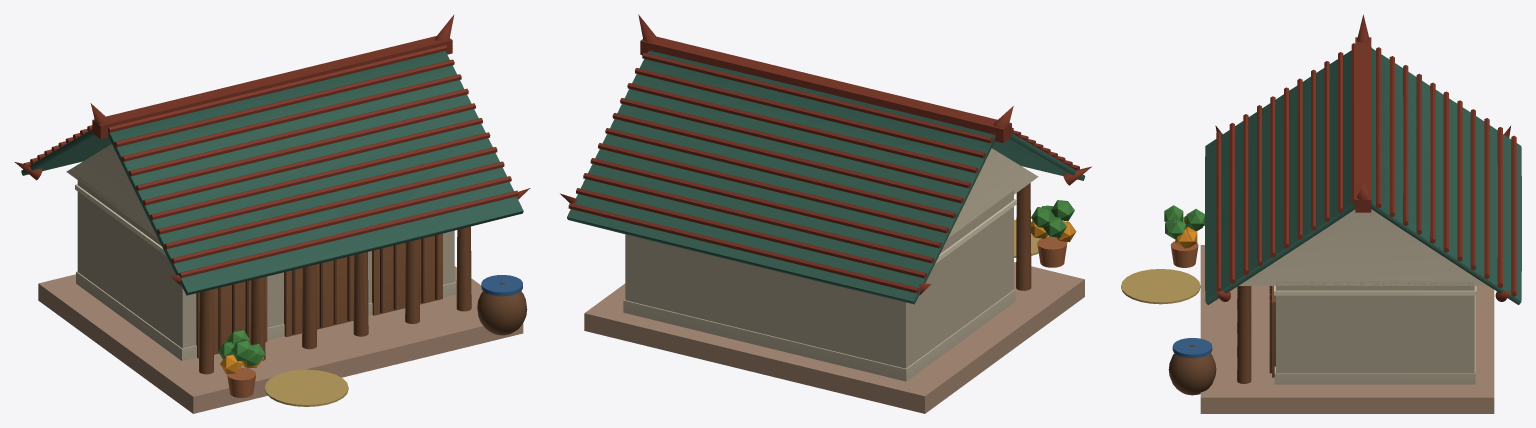
3 views of the same model, side by side, from view 1: azimuth 30°, elevation 25°; view 2: azimuth 150°, elevation 25°; view 3: azimuth 270°, elevation 25° (orthographic). The views are drawn at different scales.
Bounding box in the file's own units: 10.03 × 6.65 × 10.09.
